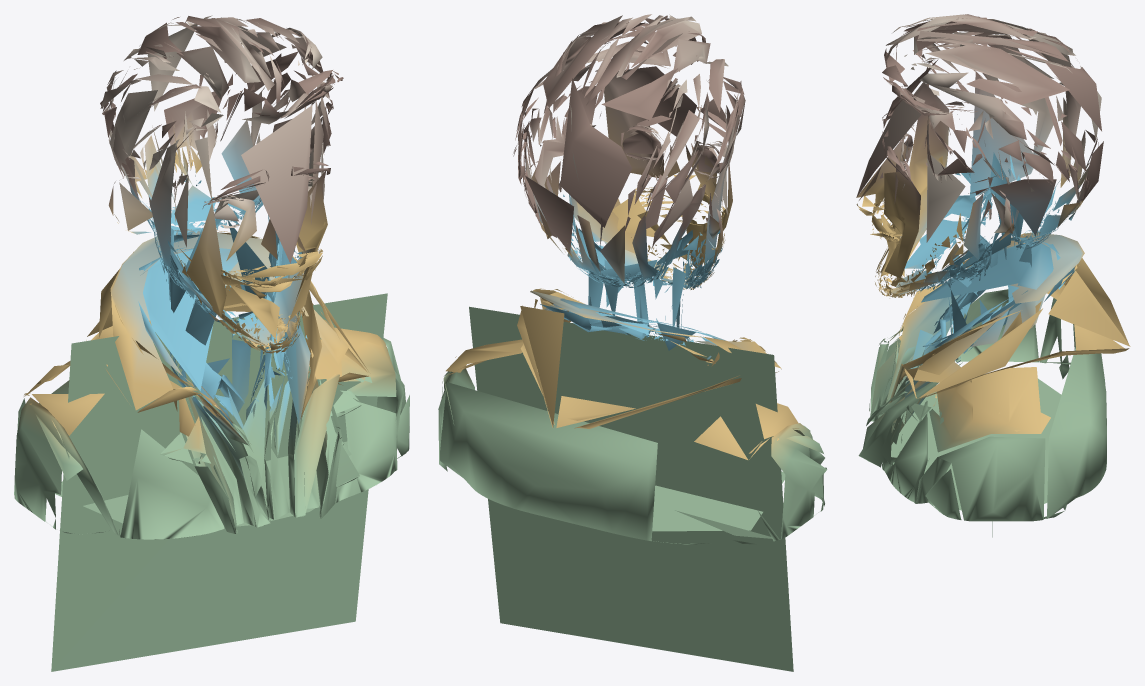
Rendered from statue_id_colored.glb.
3 renders of one model, left to right at view 1: azimuth 30°, elevation 25°; view 2: azimuth 150°, elevation 25°; view 3: azimuth 270°, elevation 25°, orthographic. The views are drawn at different scales.
Visible parts, largest first — view 1: Statue_ID_Mask; view 2: Statue_ID_Mask; view 3: Statue_ID_Mask.
Part boxes in pixels (x1,y1,x2,y2): Statue_ID_Mask: (14,15,409,671); Statue_ID_Mask: (438,14,827,671); Statue_ID_Mask: (856,14,1130,537).
Bounding box in the file's own units: 1.3 × 2.23 × 0.9405.
